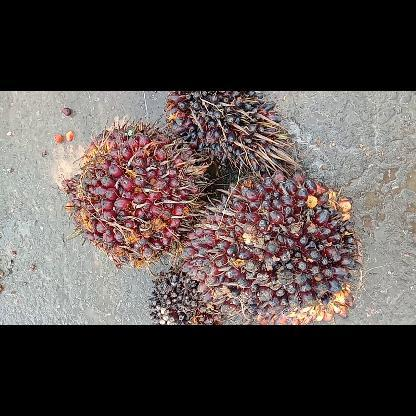Kurang masak: (183, 174, 360, 324)
TBS abnormal: (165, 91, 285, 173), (150, 265, 224, 323)
TBS masak: (66, 119, 206, 262)
